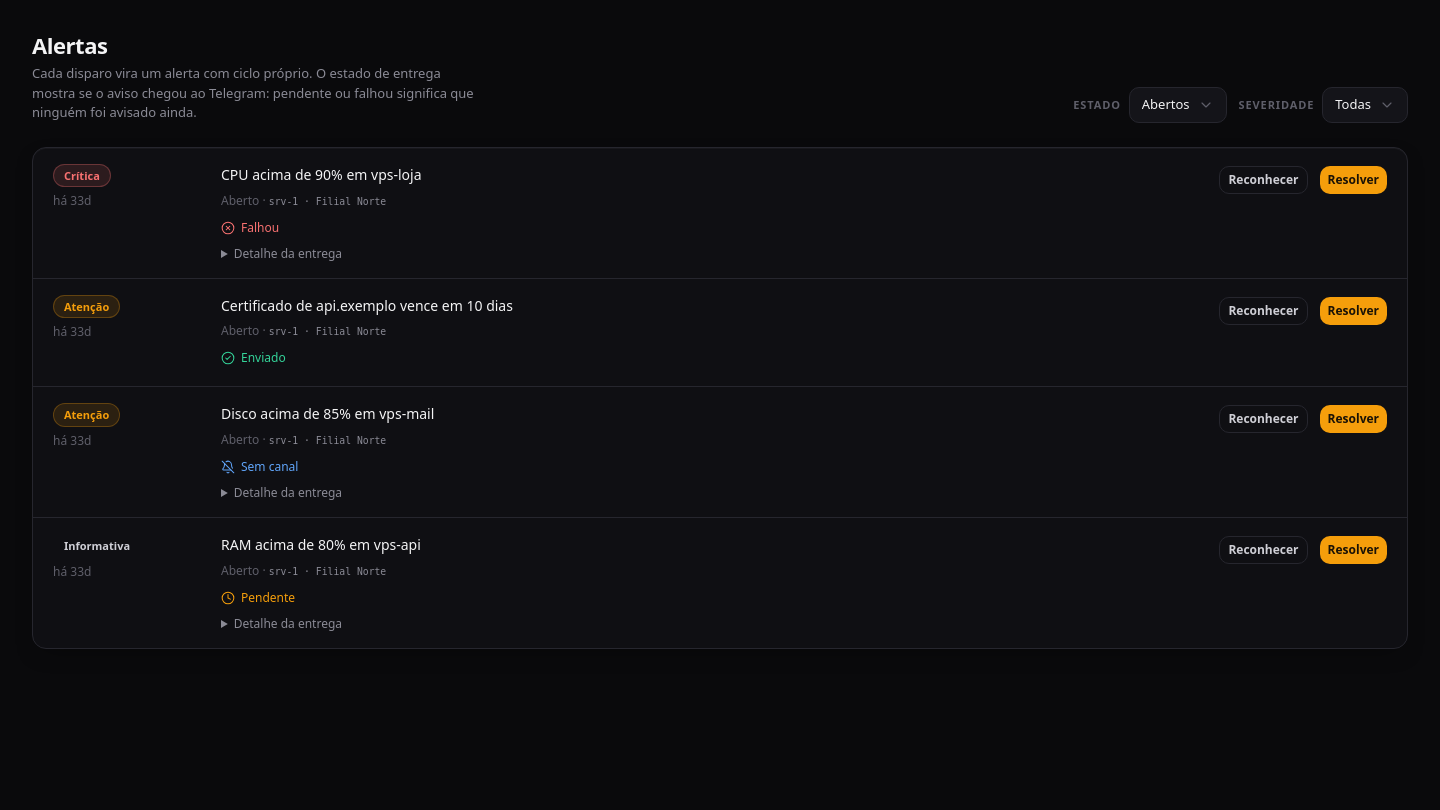
Scenario: AlertsView — entrega sem canal › explica no detalhe o que acontece quando o canal for configurado
The width and height of the screenshot is (1440, 810).
Click the heading "Detalhe da entrega" below "Sem canal" at (282, 493), box [221, 485, 342, 501]
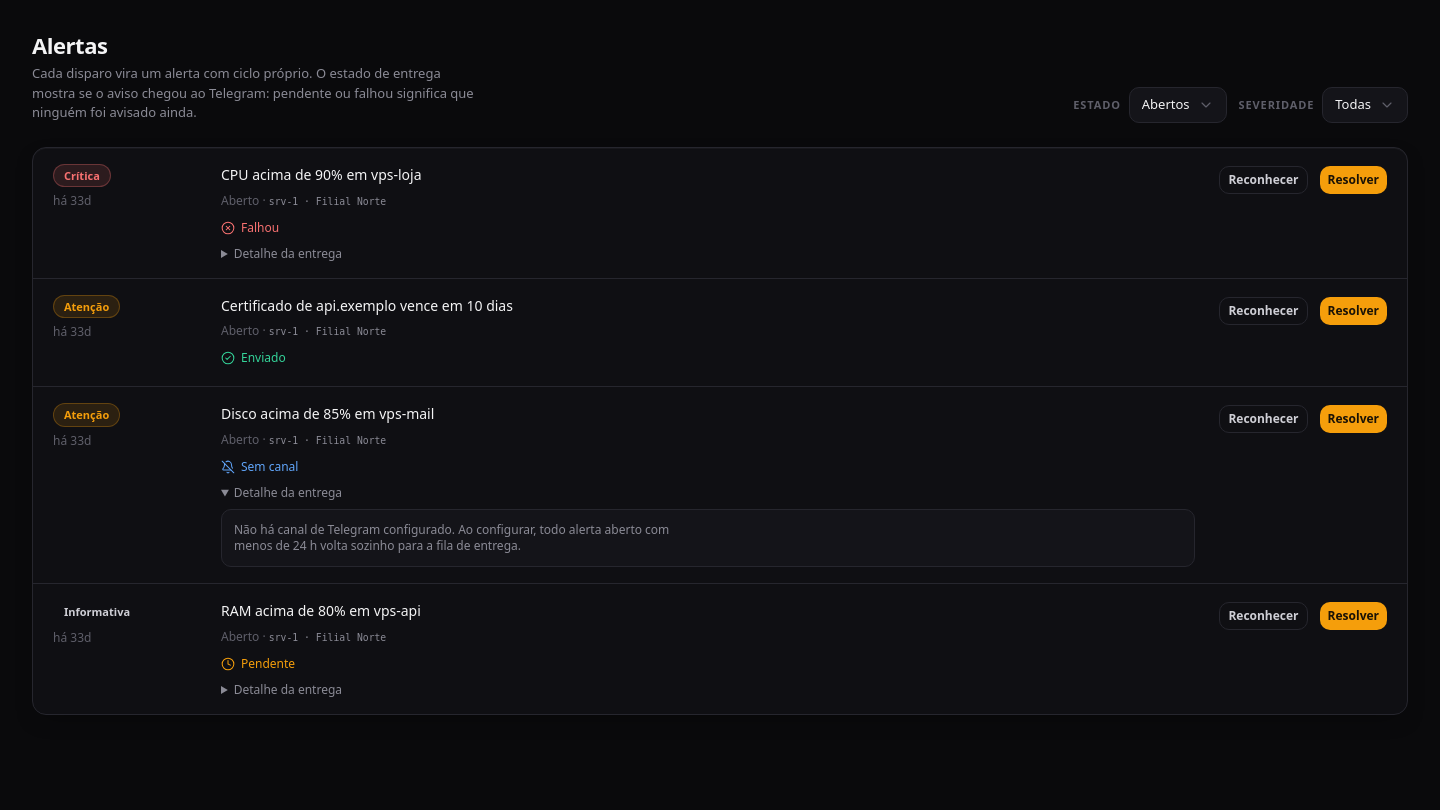
Expected: the list item "Disco acima de 85% em vps-mail" shows "configurar", [234, 521, 669, 554]
Expected: the list item "Disco acima de 85% em vps-mail" shows "24 h", [234, 521, 669, 554]
Expected: the list item "Disco acima de 85% em vps-mail" shows "fila", [234, 521, 669, 554]
